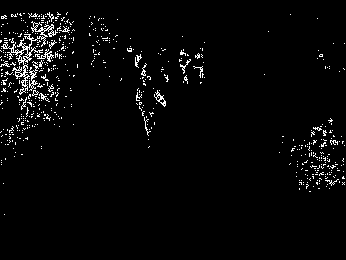person: (136, 74, 168, 141)
